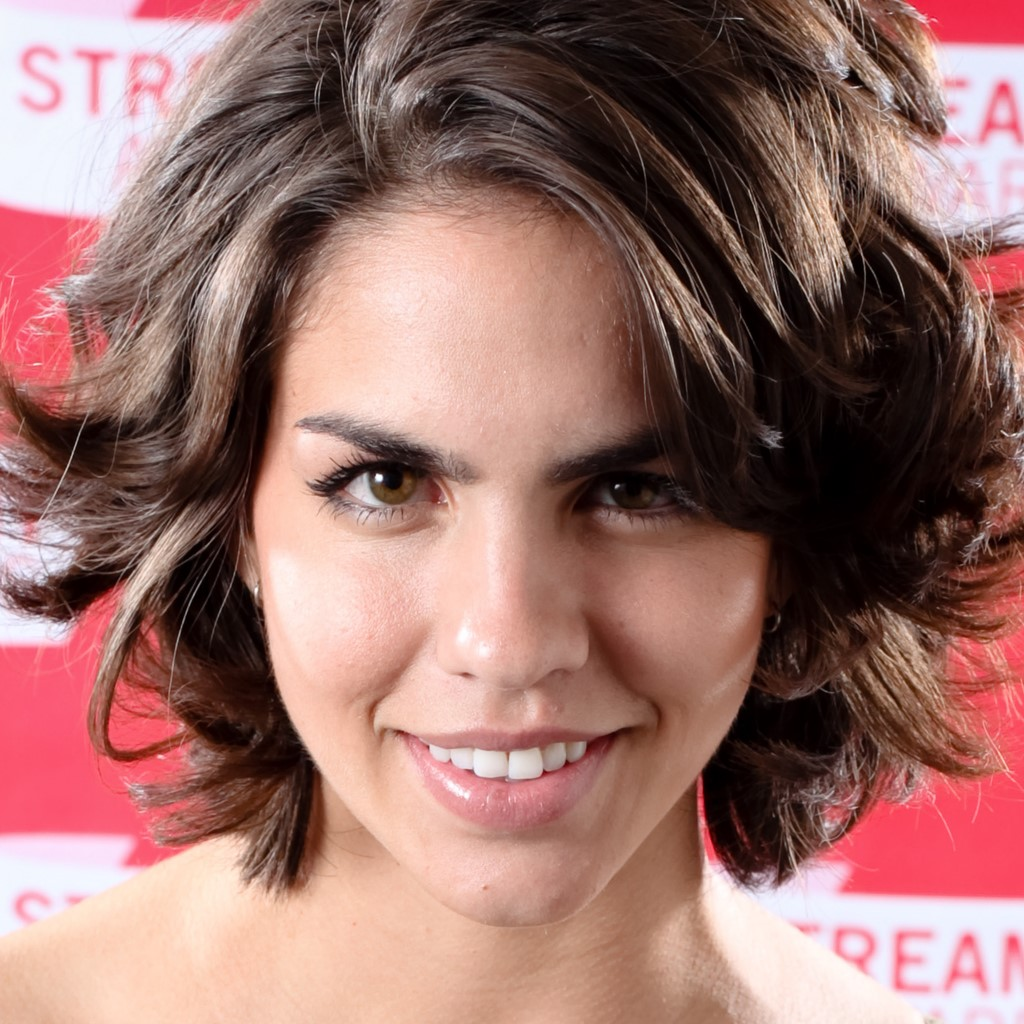sin_mascara: (243, 203, 789, 951)
